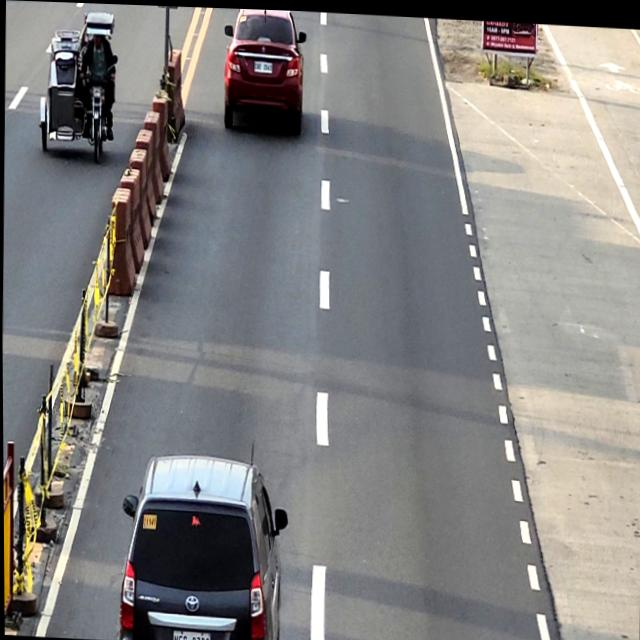Car: (116, 449, 288, 640), (220, 6, 307, 132)
License-Plate: (172, 629, 209, 640), (253, 59, 272, 71)
Tricycle: (37, 7, 117, 164)
